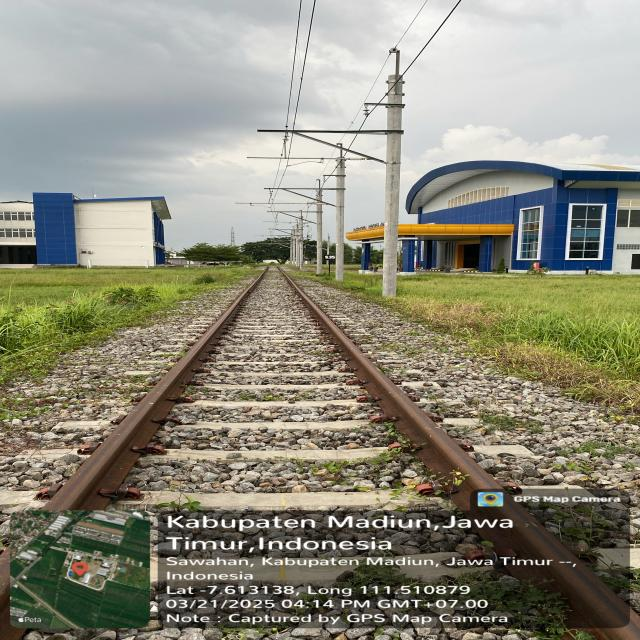rail-detection: (277, 265, 640, 640), (43, 265, 268, 510)
